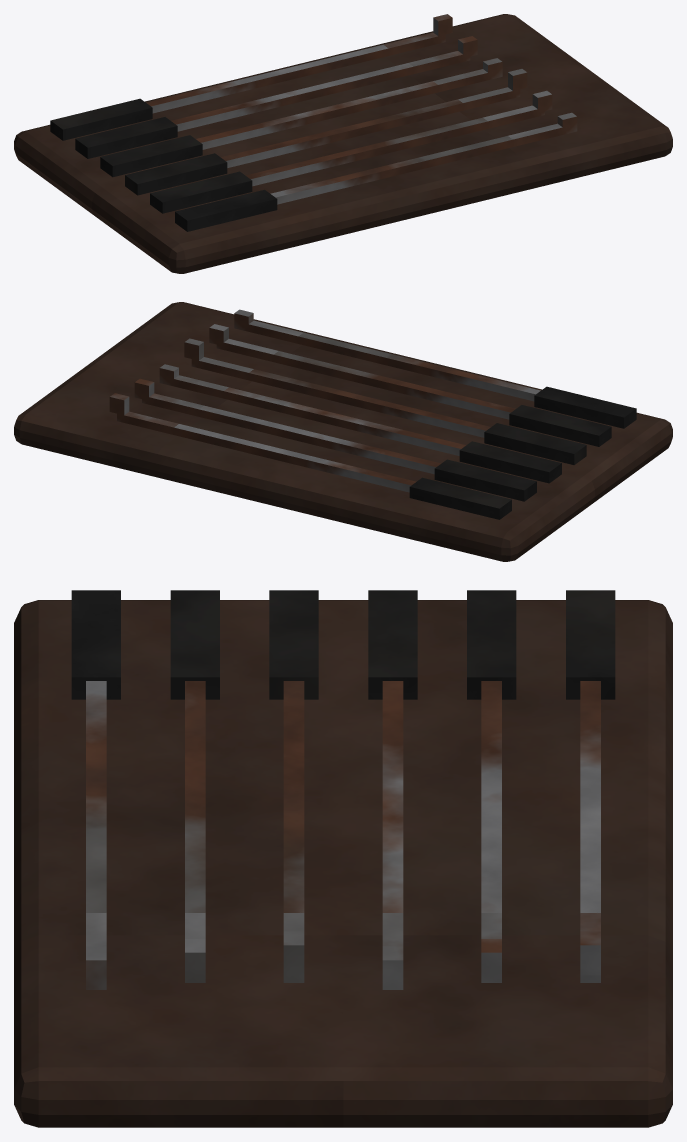
File: P12_lock_pick_set.glb
3 renders of one model, top to bottom at view 1: azimuth 30°, elevation 25°; view 2: azimuth 150°, elevation 25°; view 3: azimuth 270°, elevation 25°, orthographic. The views are drawn at different scales.
Visible parts, largest first — view 1: P12_lock_pick_set; view 2: P12_lock_pick_set; view 3: P12_lock_pick_set.
Boxes of the visible parts, bbox=[...] form: P12_lock_pick_set: bbox=[14, 14, 672, 273]; P12_lock_pick_set: bbox=[14, 302, 672, 561]; P12_lock_pick_set: bbox=[14, 590, 672, 1127].
Size of the model in its own units: 0.15 by 0.0161 by 0.0857.
3 materials, 3 textured.
